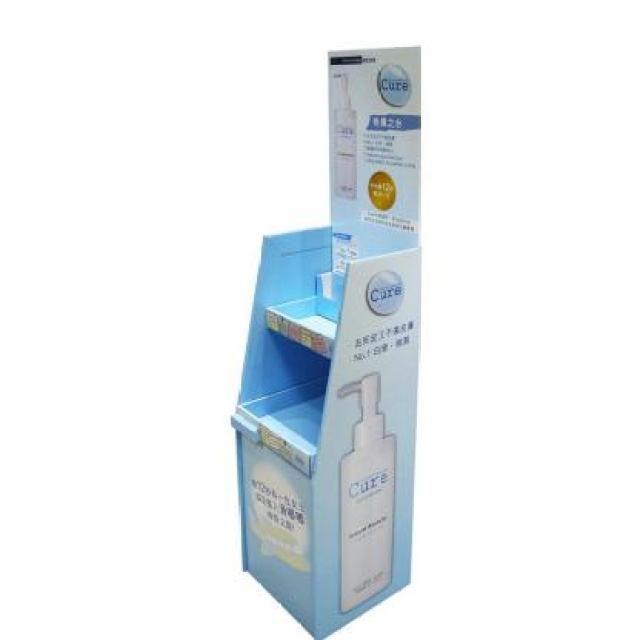box: (222, 32, 443, 640)
